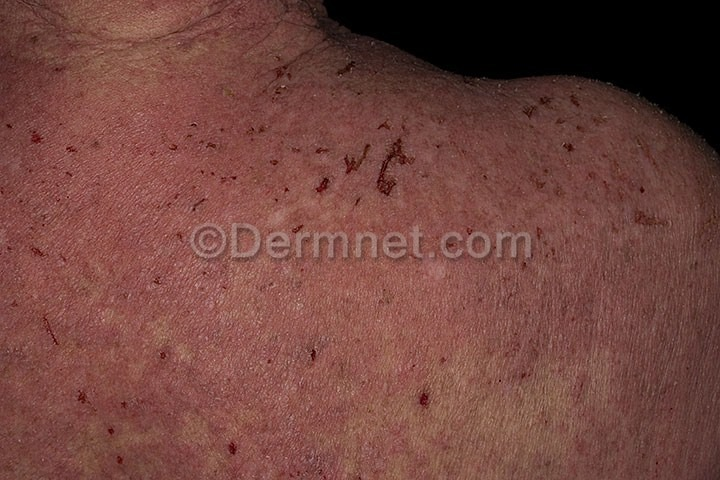Eczema: (6, 35, 708, 480)
